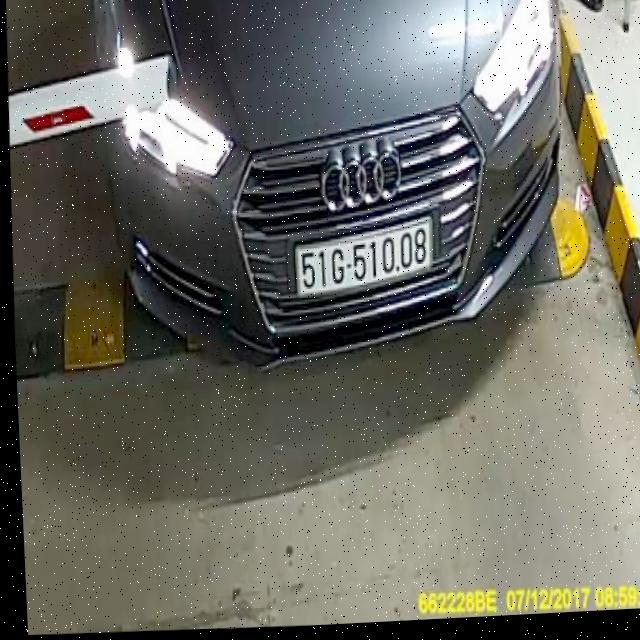car: (72, 0, 586, 378)
plate: (291, 211, 434, 296)
